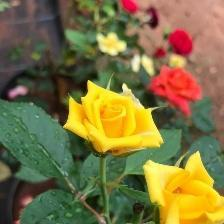rose: (65, 79, 168, 162), (143, 149, 224, 224), (151, 66, 215, 115)
